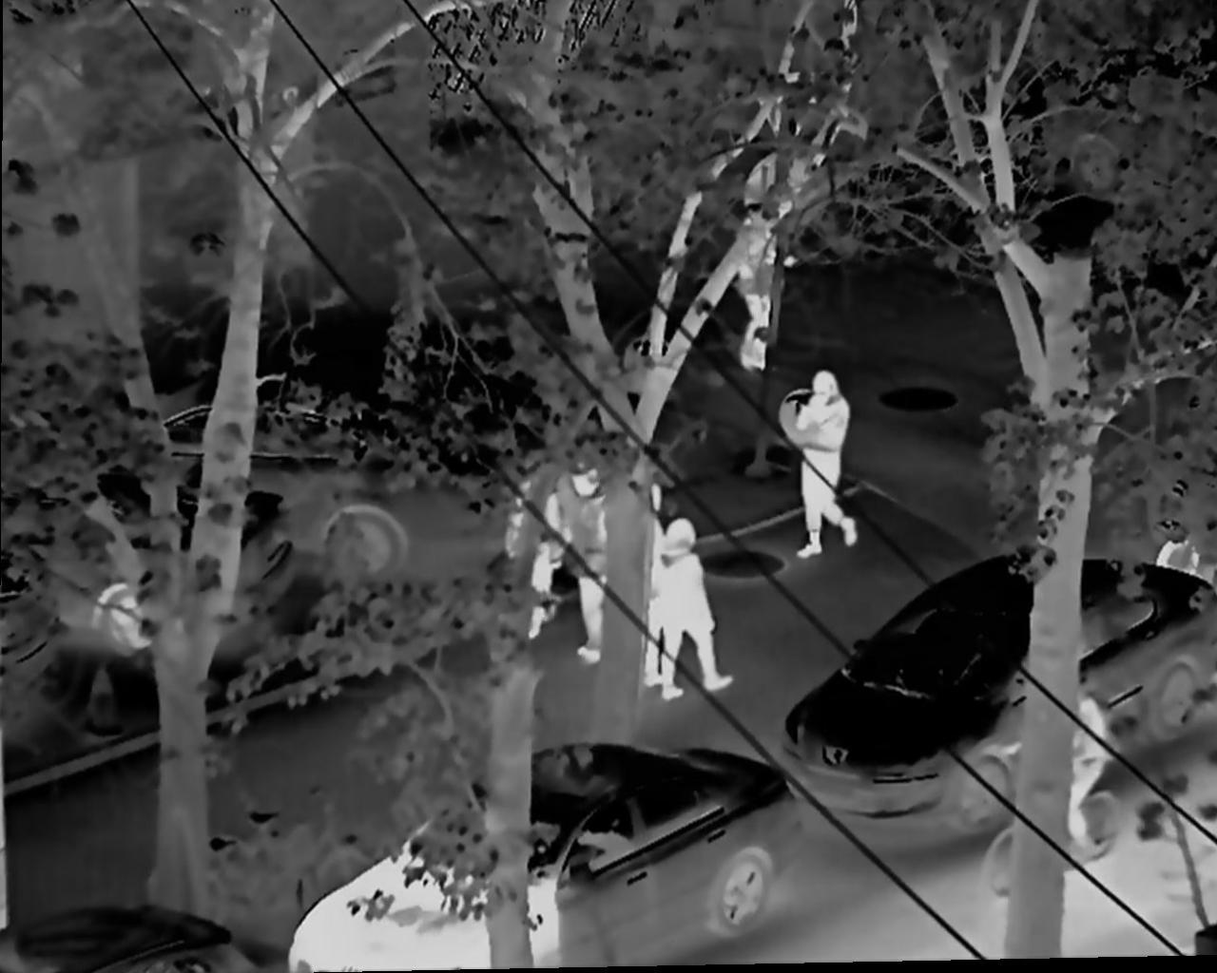person: (570, 465, 667, 687), (778, 365, 861, 564), (656, 514, 729, 697), (729, 207, 786, 373)
